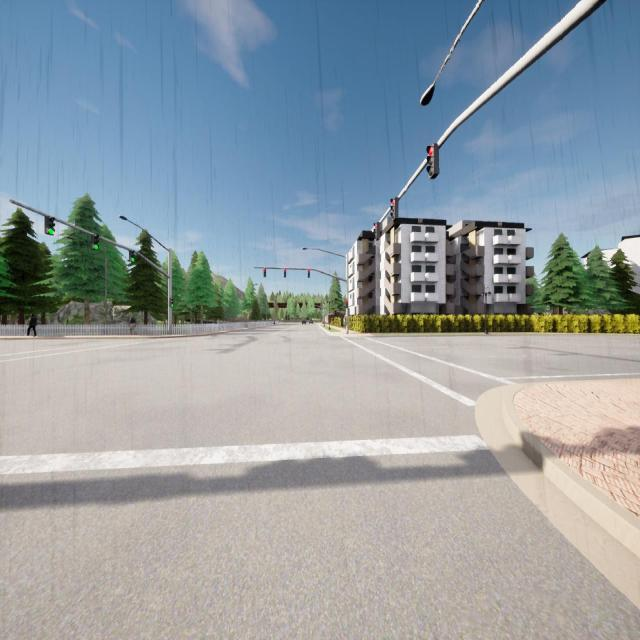Pedestrian: (26, 314, 36, 336), (128, 314, 138, 336)
Vehicle: (308, 319, 314, 325), (302, 320, 306, 325)
traffic_light: (426, 144, 438, 179), (45, 213, 56, 236), (391, 197, 398, 221), (91, 232, 99, 250), (373, 222, 380, 241), (129, 247, 136, 263), (169, 296, 174, 308), (284, 268, 286, 278), (308, 268, 310, 278), (346, 299, 348, 308), (264, 268, 266, 277)
